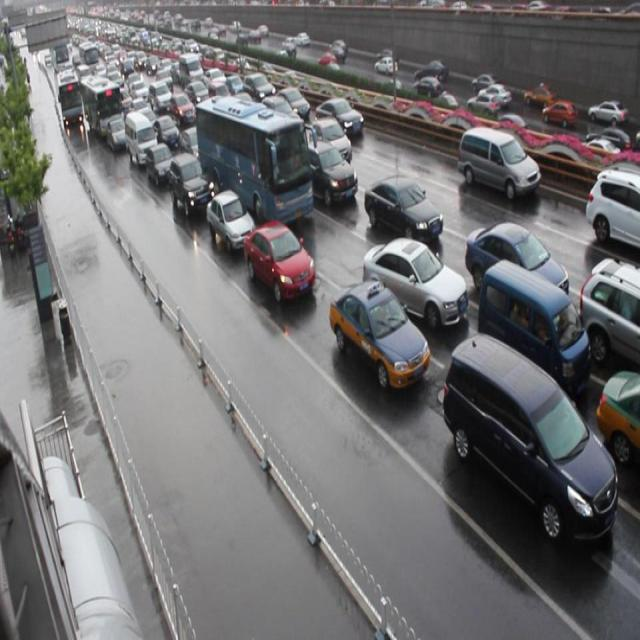car: (329, 280, 429, 392), (362, 239, 466, 331), (464, 224, 567, 309), (579, 259, 640, 372), (242, 224, 314, 303), (364, 178, 441, 245), (582, 167, 640, 251), (592, 372, 640, 468), (304, 144, 358, 207), (205, 190, 256, 253), (168, 154, 213, 218), (307, 119, 352, 170), (315, 97, 362, 138), (145, 146, 175, 190), (275, 85, 309, 119), (179, 129, 207, 164), (153, 118, 179, 152)
truck: (442, 333, 616, 548), (477, 262, 589, 399), (457, 126, 540, 202)
van: (195, 96, 312, 228)
